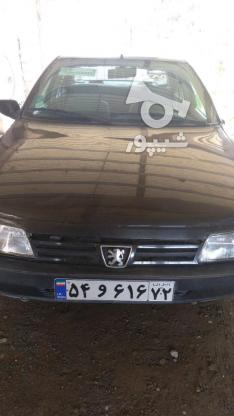car: (54, 276, 176, 303)
